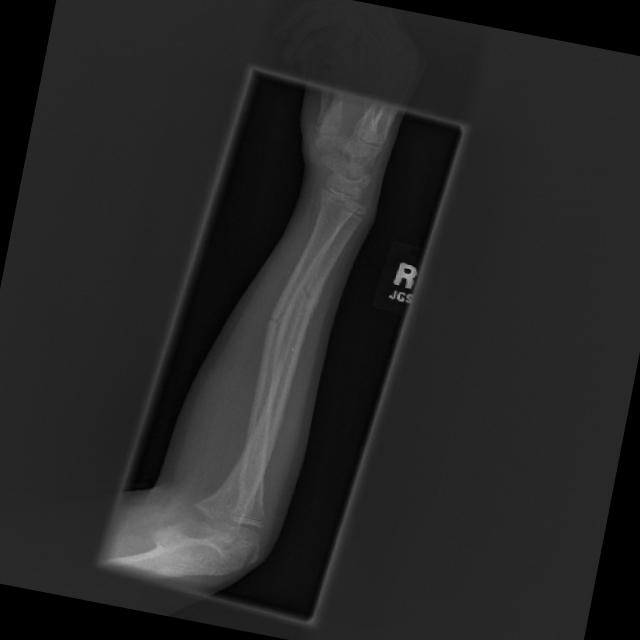forearm fracture: (258, 303, 292, 340), (291, 273, 325, 309)
